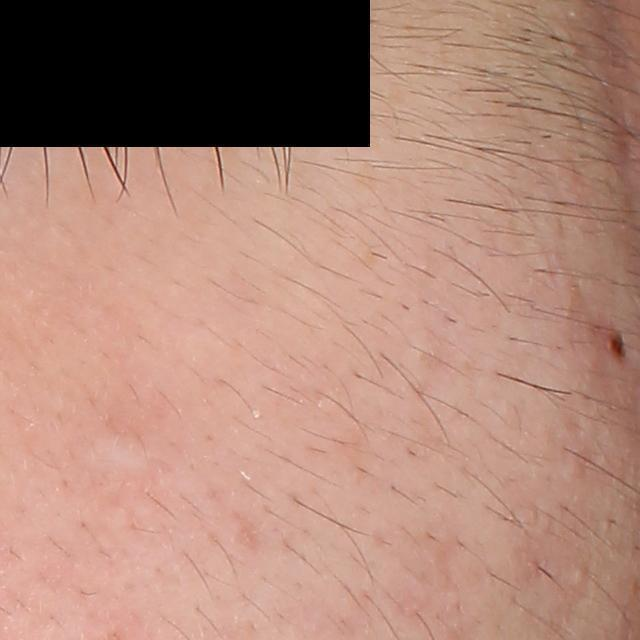comedo: (570, 566, 589, 593)
hypertrophic_scar: (85, 427, 156, 479)
